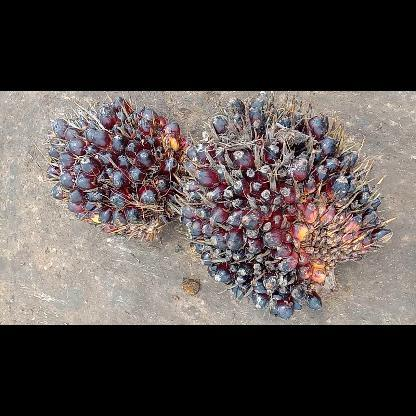TBS mentah: (180, 90, 394, 320), (47, 95, 184, 241)
